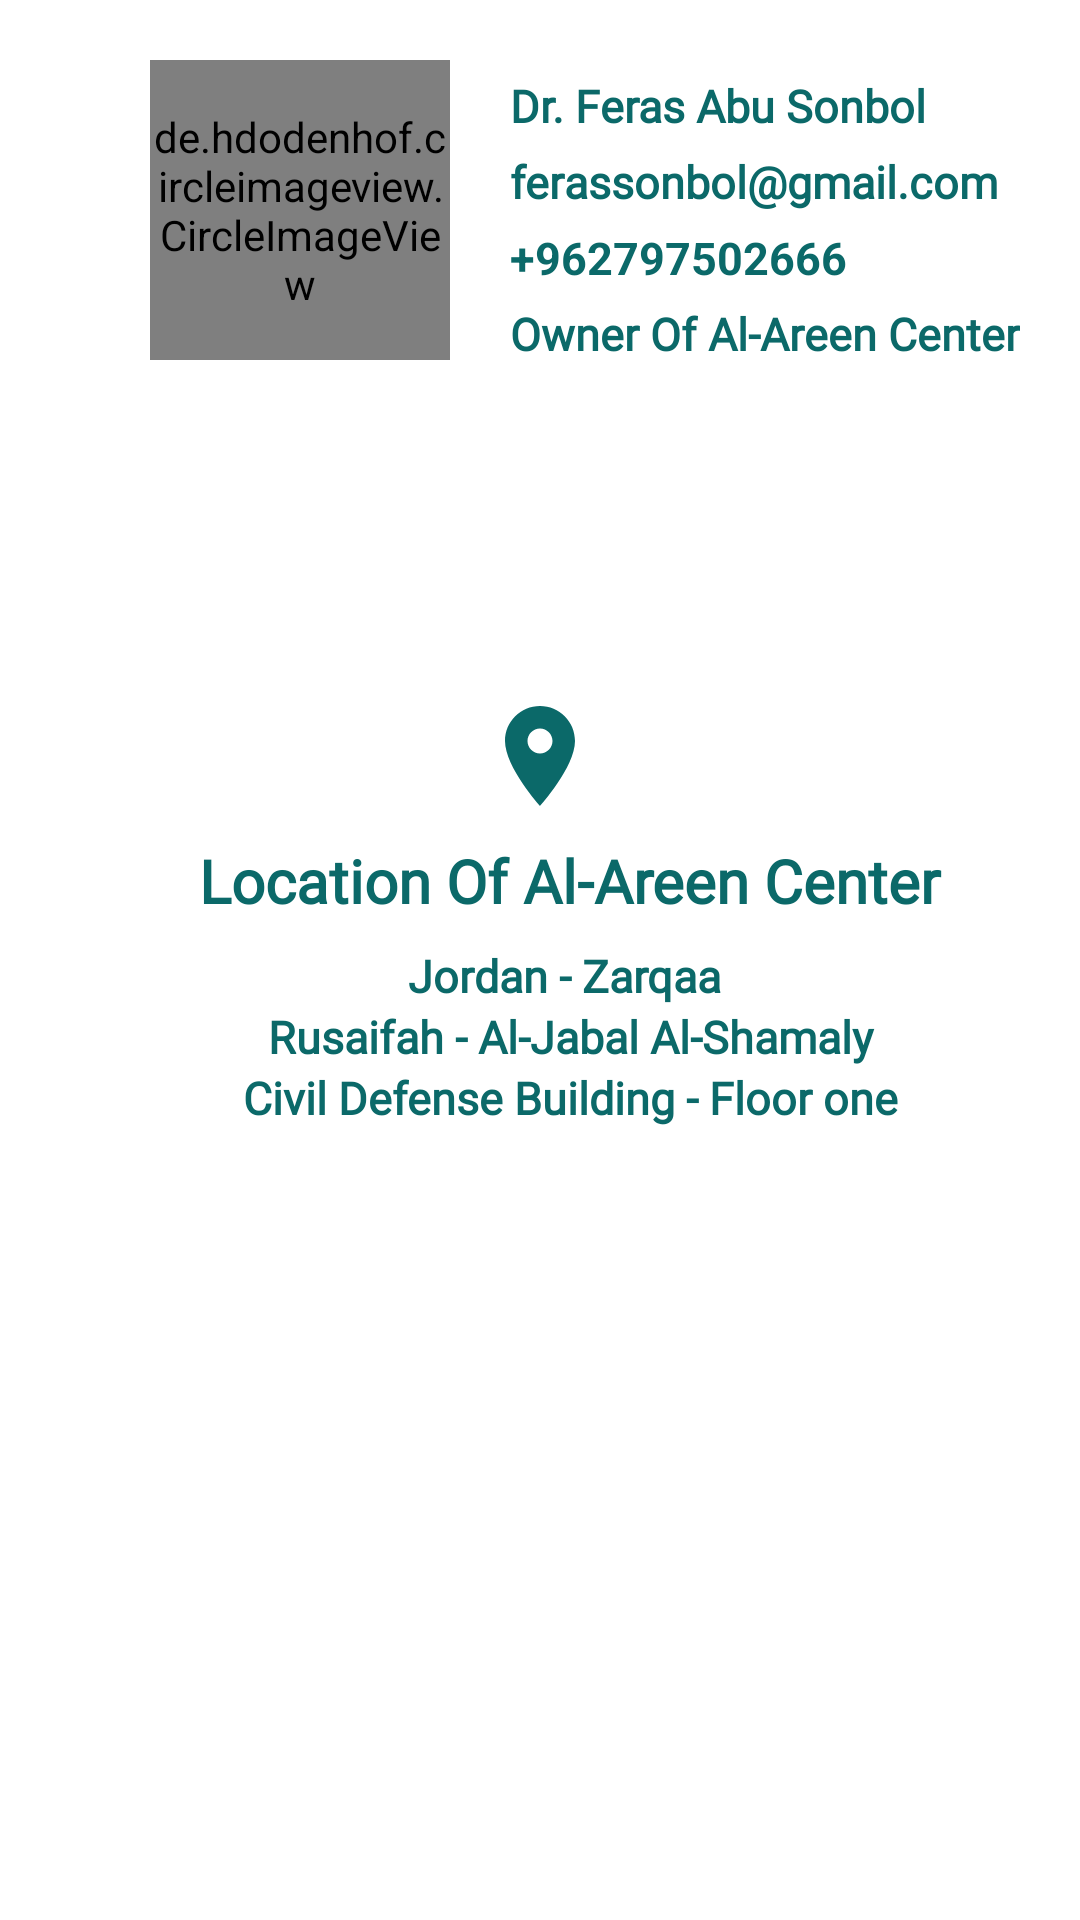

Named icons in this screenshot (1080*1920) and their centers, (x,y):
location on: (540,756)
